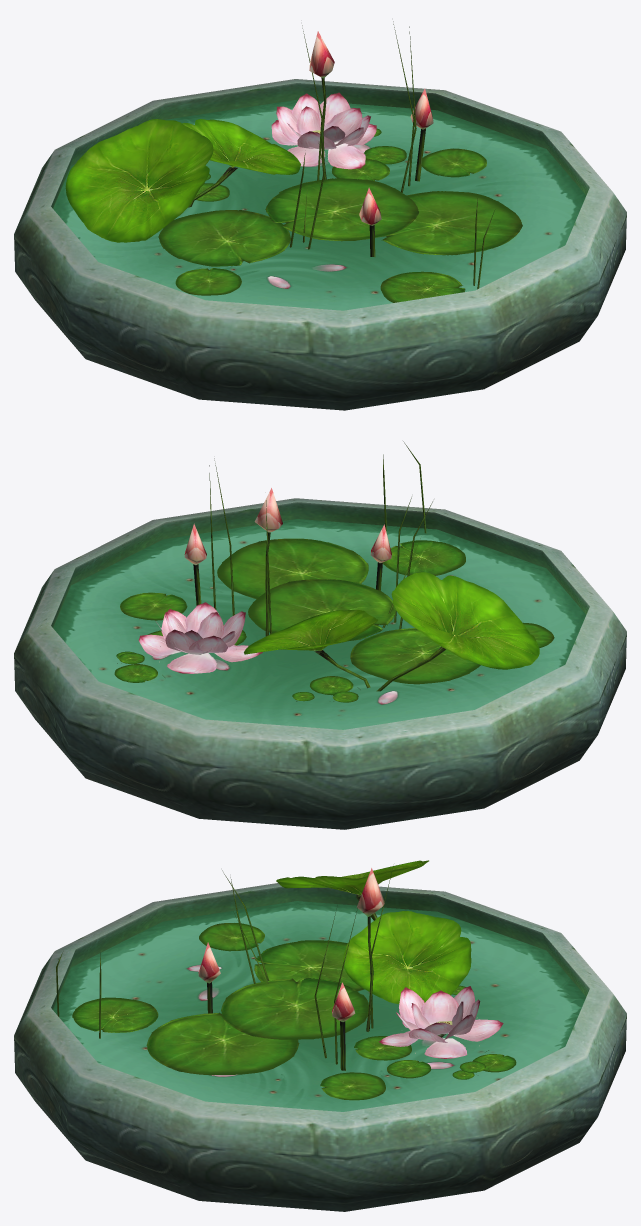
File: wm_灌木荷花坛子01.fbx
The picture shows the model from 3 angles, top to bottom: view 1: azimuth 30°, elevation 25°; view 2: azimuth 150°, elevation 25°; view 3: azimuth 270°, elevation 25°; orthographic projection.
Parts seen in each view (by area): view 1: wm_灌木荷花坛子01; view 2: wm_灌木荷花坛子01; view 3: wm_灌木荷花坛子01.
Part boxes in pixels (bbox=[...]): wm_灌木荷花坛子01: bbox=[14, 21, 626, 410]; wm_灌木荷花坛子01: bbox=[14, 441, 626, 829]; wm_灌木荷花坛子01: bbox=[14, 860, 626, 1211].
Size of the model in its own units: 197 by 99.96 by 197.
